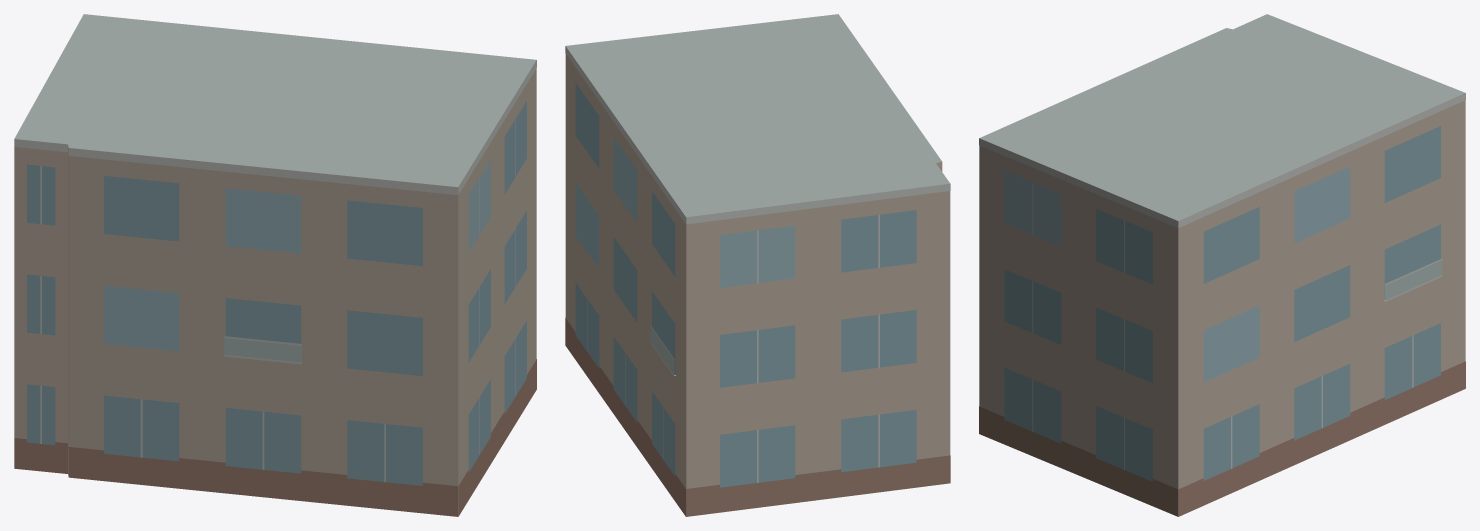
File: survey-upis-32639006.glb
The picture shows the model from 3 angles, left to right: view 1: azimuth 30°, elevation 25°; view 2: azimuth 150°, elevation 25°; view 3: azimuth 270°, elevation 25°; orthographic projection. The views are drawn at different scales.
Parts seen in each view (by area): view 1: survey-upis-32639006.tmp; view 2: survey-upis-32639006.tmp; view 3: survey-upis-32639006.tmp.
Part boxes in pixels (<box>): survey-upis-32639006.tmp: <box>14,14,536,516</box>; survey-upis-32639006.tmp: <box>565,14,950,516</box>; survey-upis-32639006.tmp: <box>979,14,1465,516</box>.
Size of the model in its own units: 15.33 by 10.2 by 15.21.
